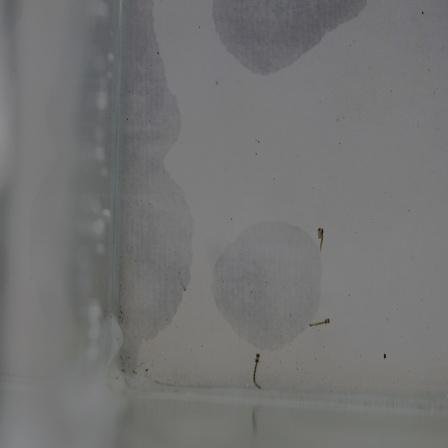Jentik-Nyamuk: (248, 348, 269, 391), (303, 311, 335, 333), (313, 224, 331, 259)
